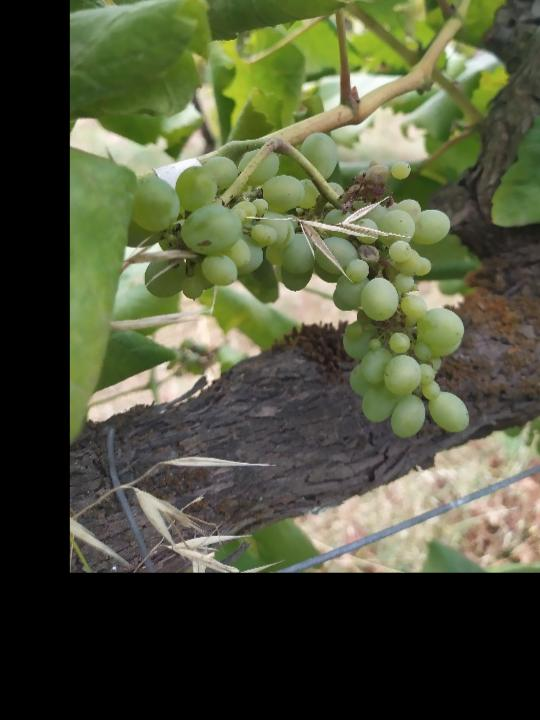grape: (142, 131, 481, 443)
